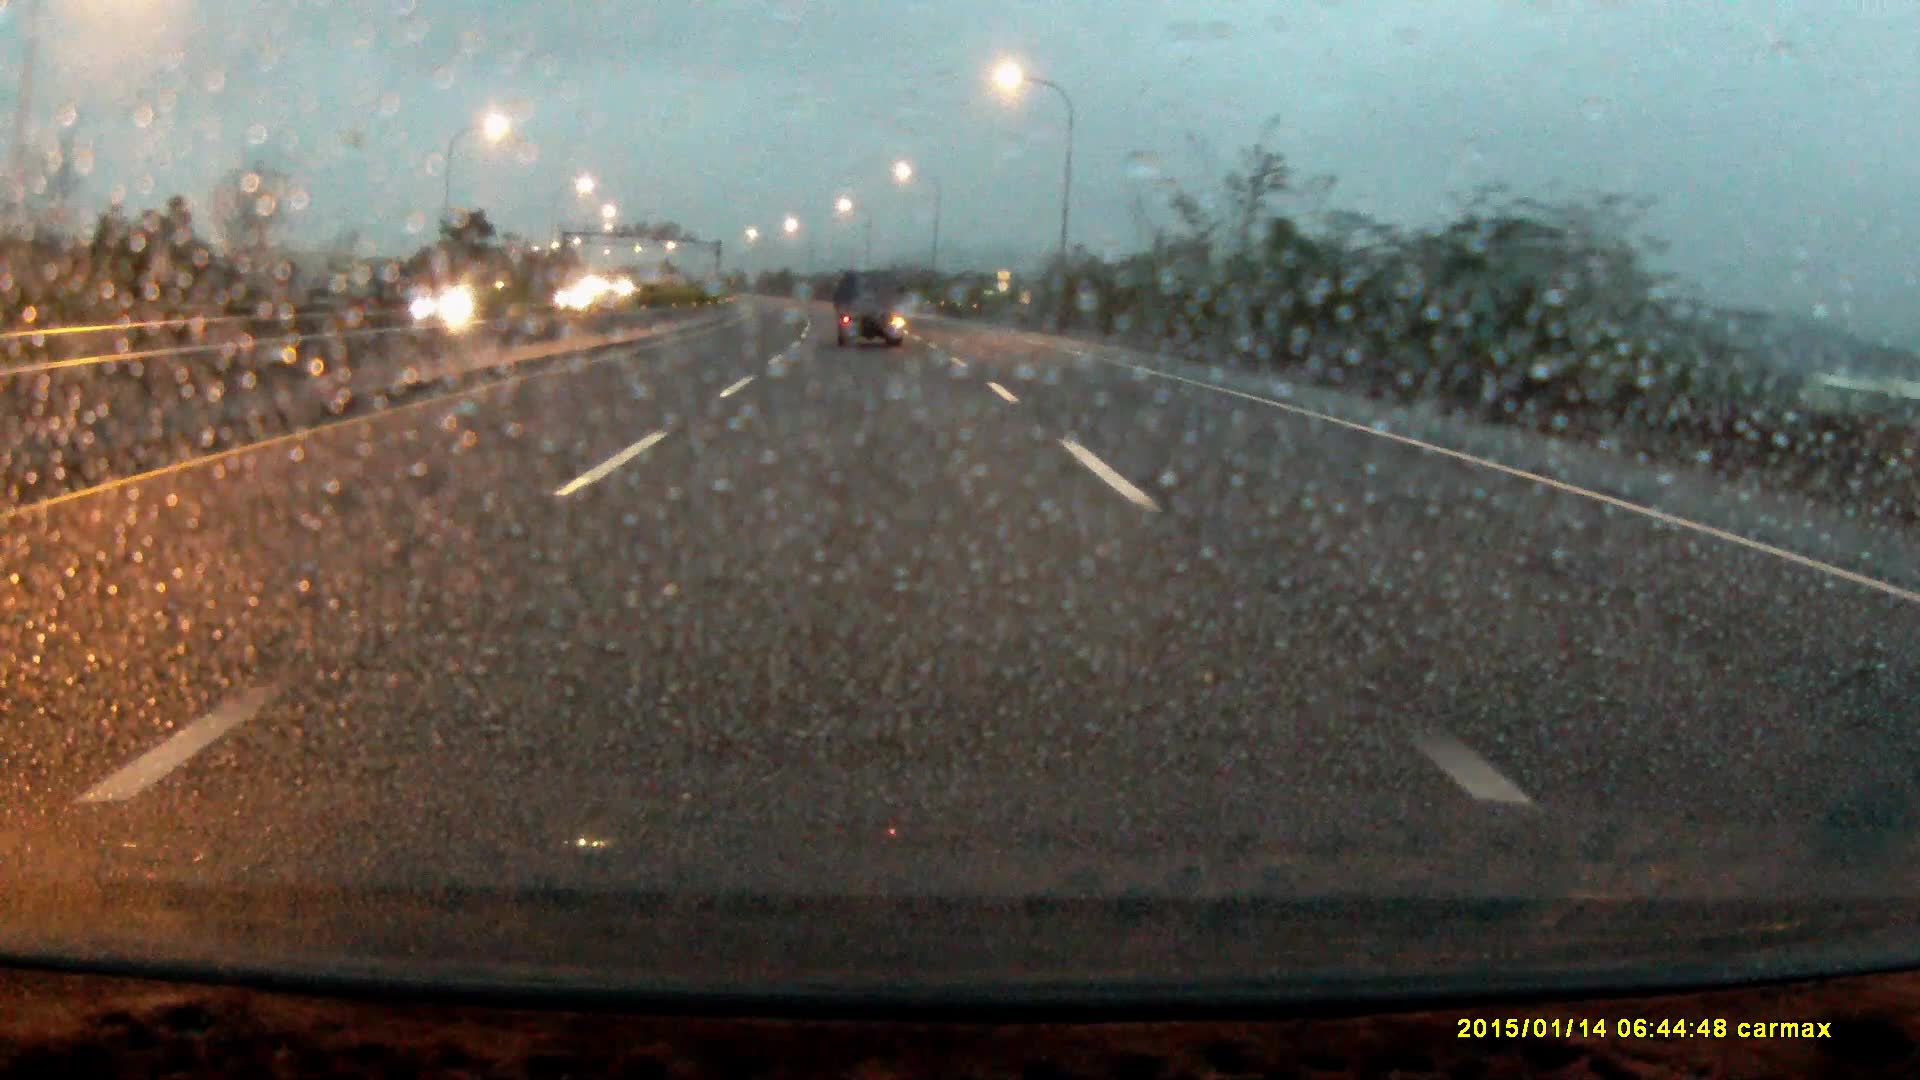vehicle: (835, 276, 905, 351), (398, 287, 495, 330)
